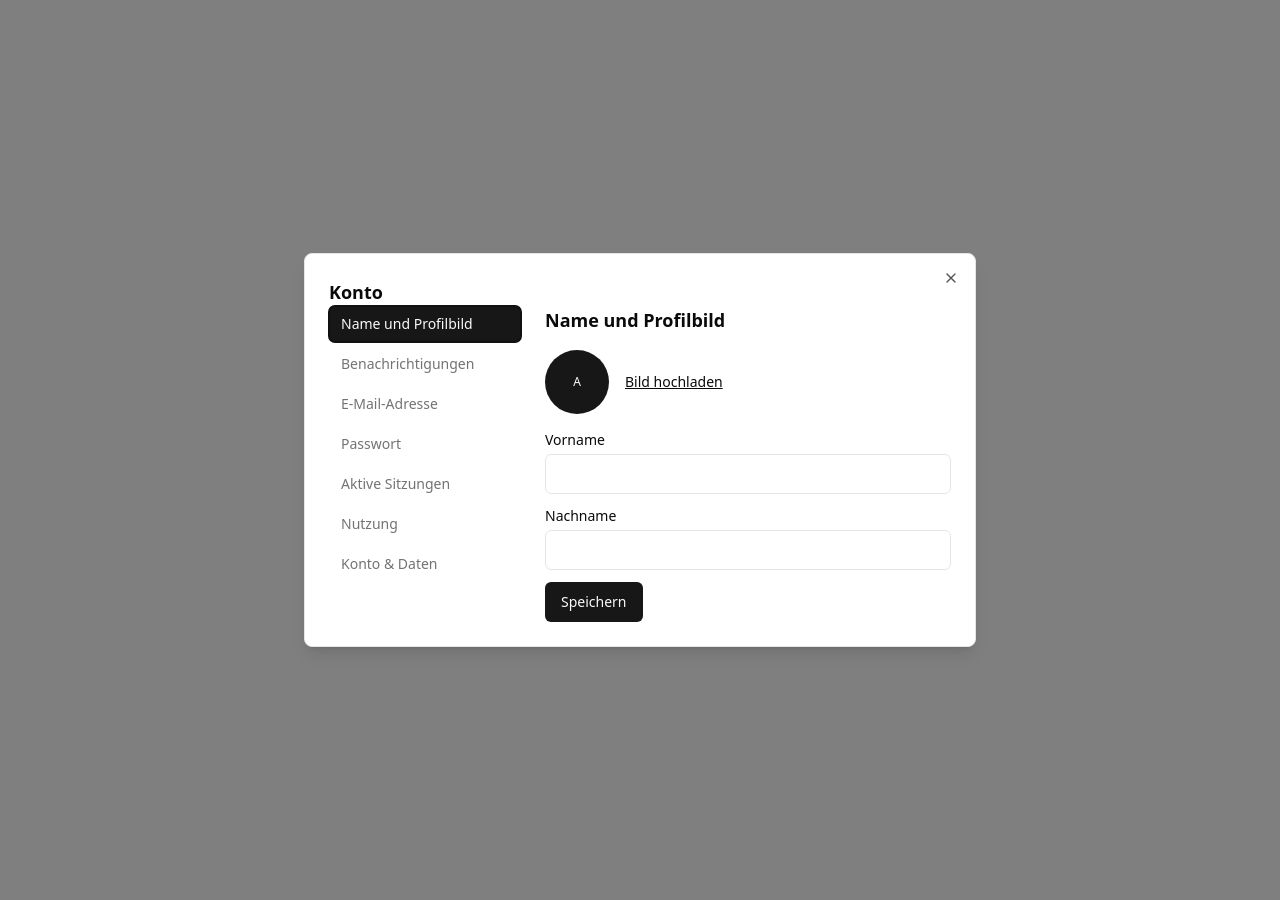
ProfileOverlay › switches to the email section when its nav item is clicked
The image size is (1280, 900).
Check: the heading "Name und Profilbild" is shown, box [545,308,725,332]
What coordinates should you click on to do the following:
click the button "E-Mail-Adresse"
I would click on:
 (425, 404)
Its box is [329,386,521,422].
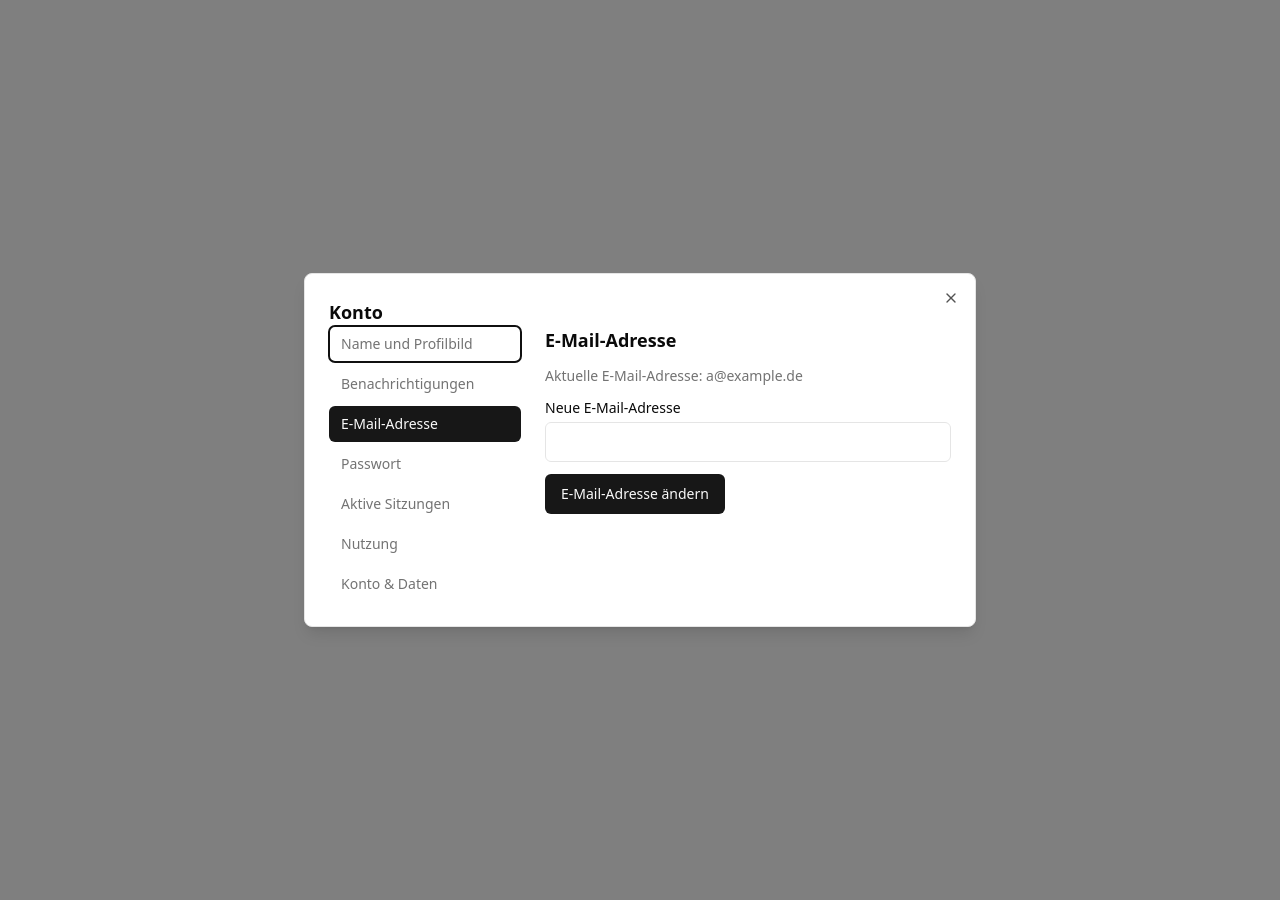
Check: the text "Aktuelle E-Mail-Adresse" is shown, box [545,366,699,385]
